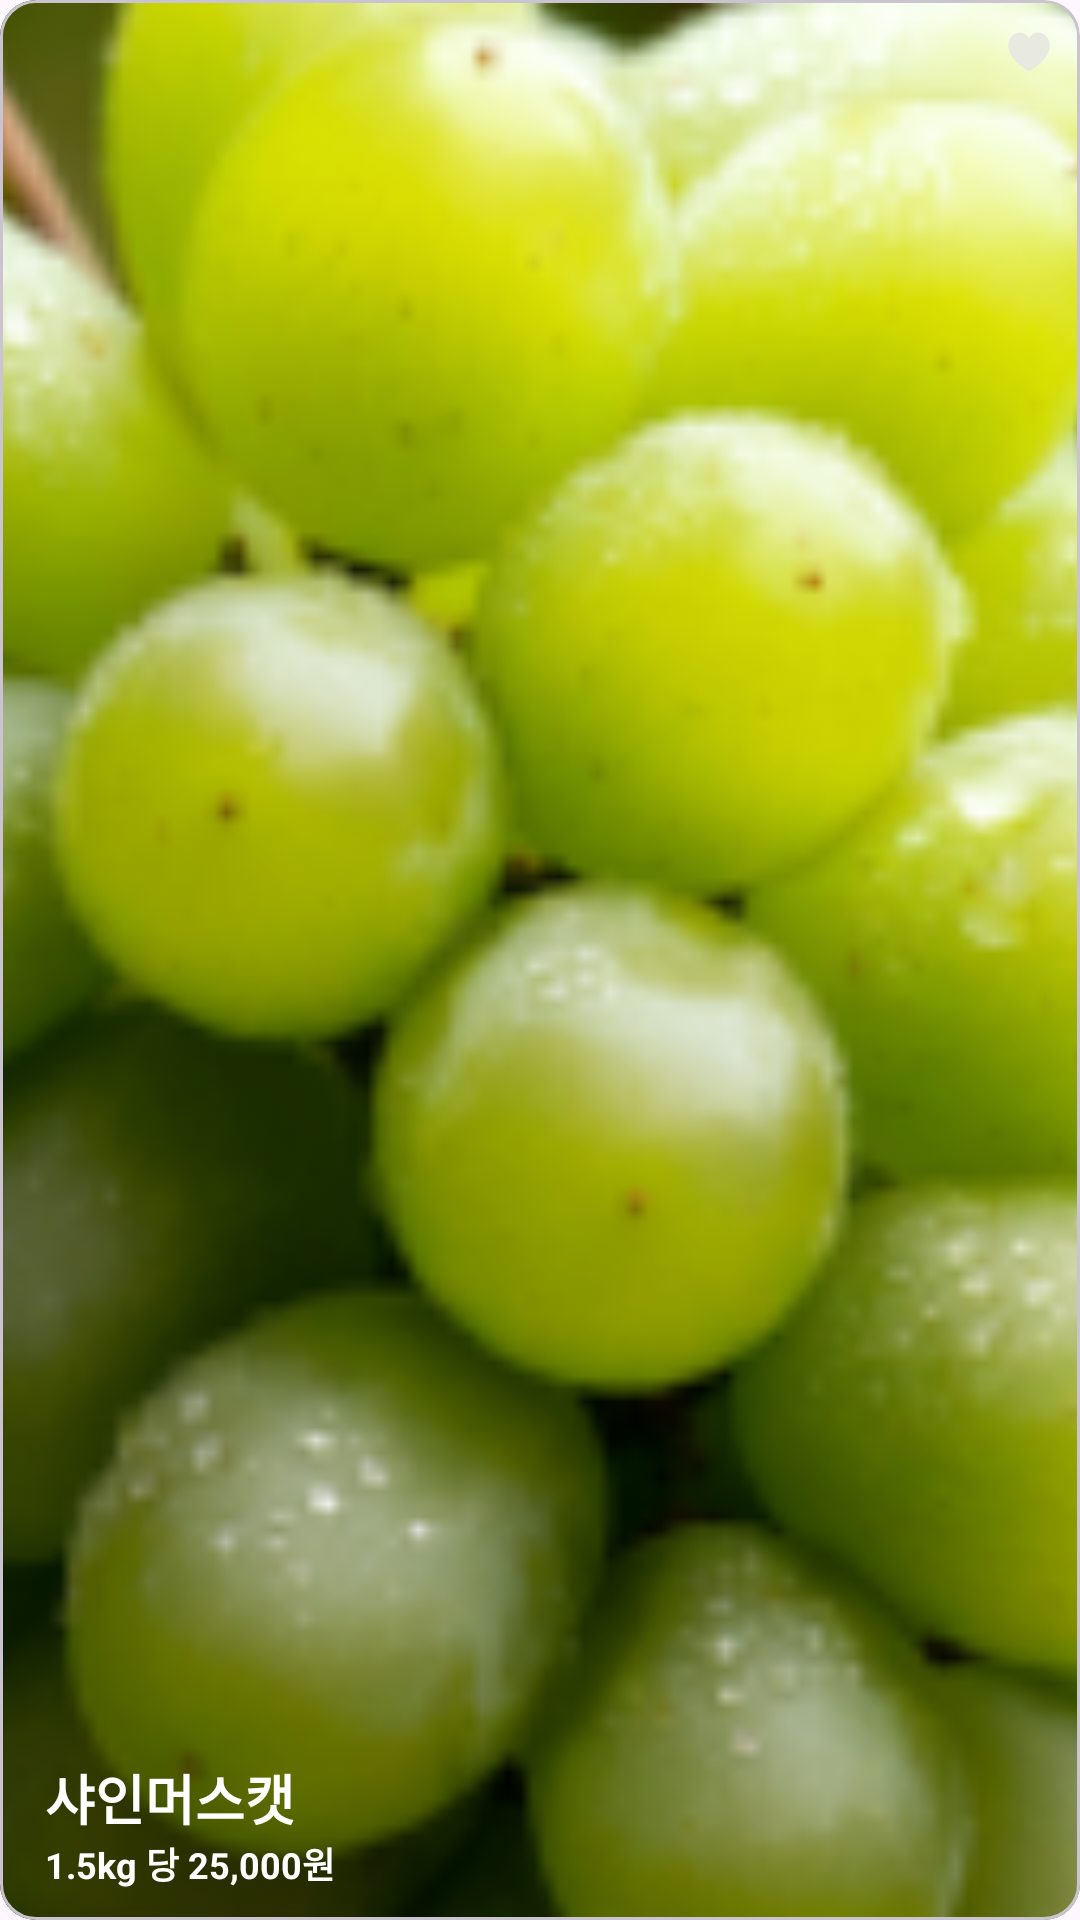

Point at icon controls on the screen. Image size 1080w x 1920h, points as [x,y].
heart: [1029,51]
